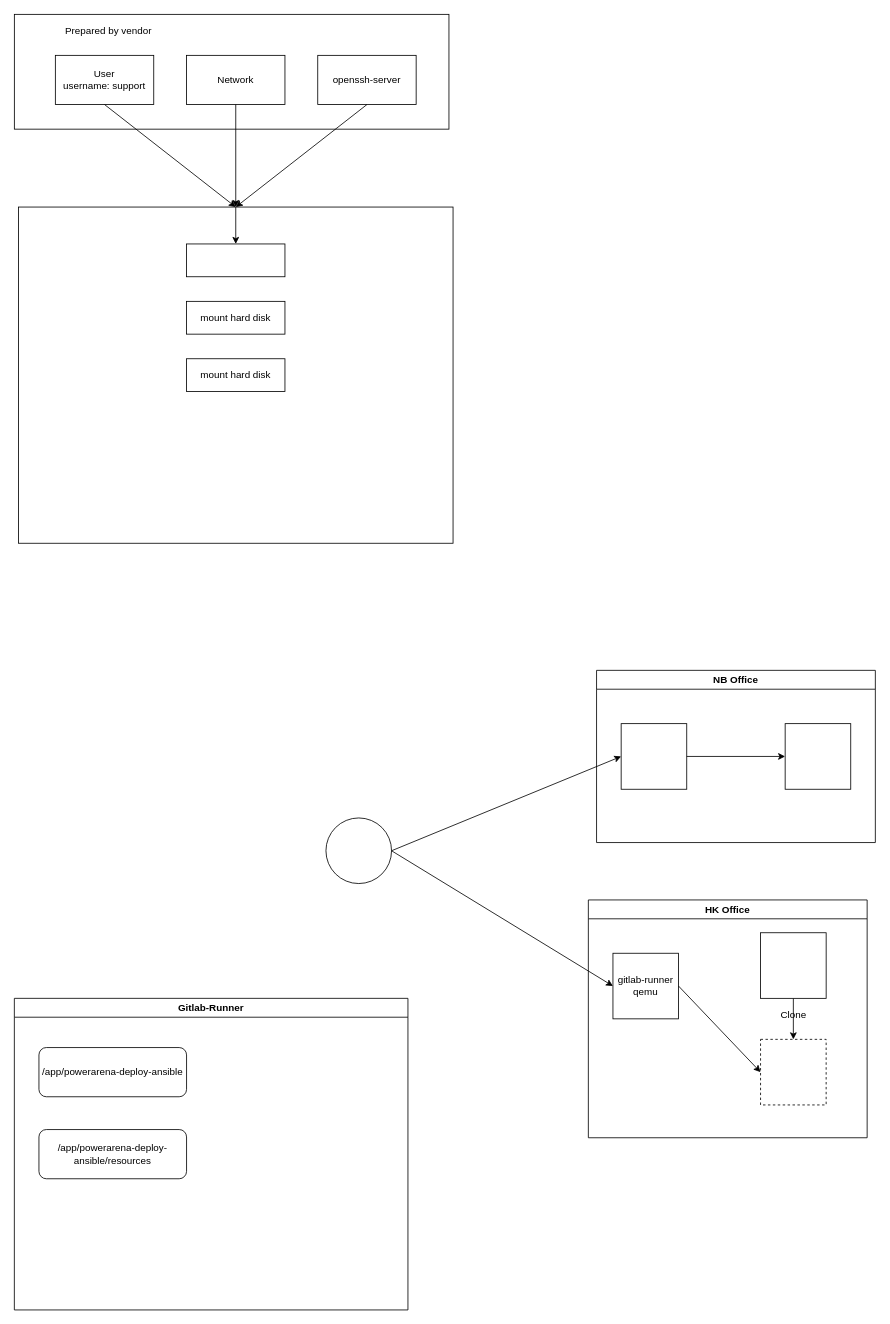
This 890x1324 diagram has some shape labels left out. Here are the shapes that lost their labels. From the top down, the centre of each, then its label:
At (x=235, y=260): "update packages".
At (x=653, y=756): "gitlab-runner nb220".
At (x=817, y=756): "centos".
At (x=358, y=850): "GitLab".
At (x=793, y=965): "ubuntu-gpu".
At (x=793, y=1072): "ubuntu-gpu-ci-base".
